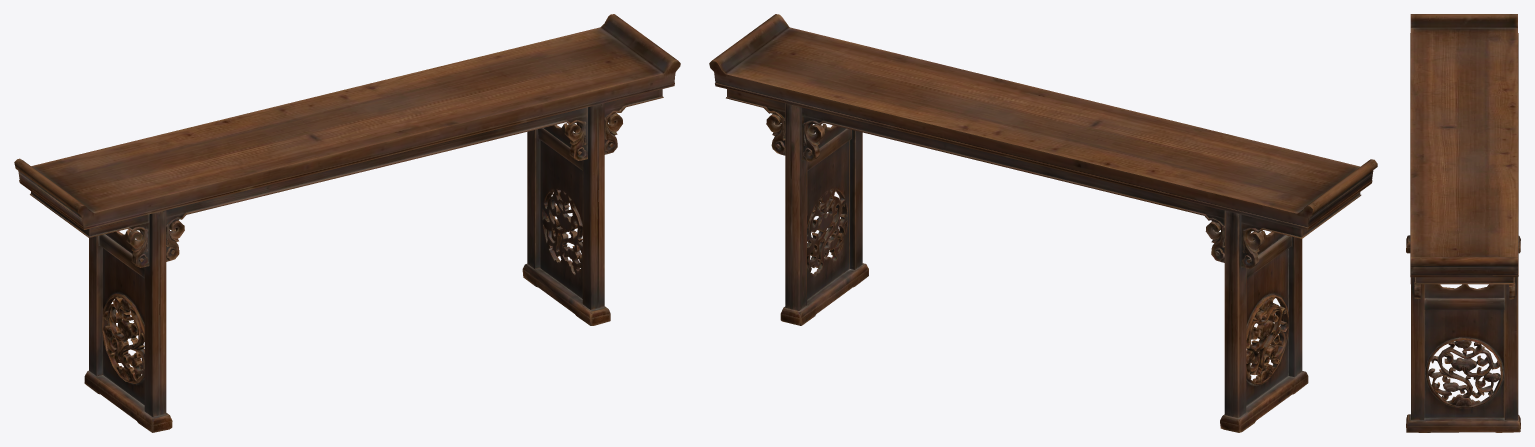
File: chinese-console.glb
3 views of the same model, side by side, from view 1: azimuth 30°, elevation 25°; view 2: azimuth 150°, elevation 25°; view 3: azimuth 270°, elevation 25° (orthographic). The views are drawn at different scales.
Parts seen in each view (by area): view 1: chinese_console_table; view 2: chinese_console_table; view 3: chinese_console_table.
Part boxes in pixels (<box>): chinese_console_table: <box>14,14,680,432</box>; chinese_console_table: <box>709,14,1377,432</box>; chinese_console_table: <box>1406,14,1520,432</box>.
Size of the model in its own units: 1.72 by 0.6603 by 0.3384.
1 material, 1 textured.
